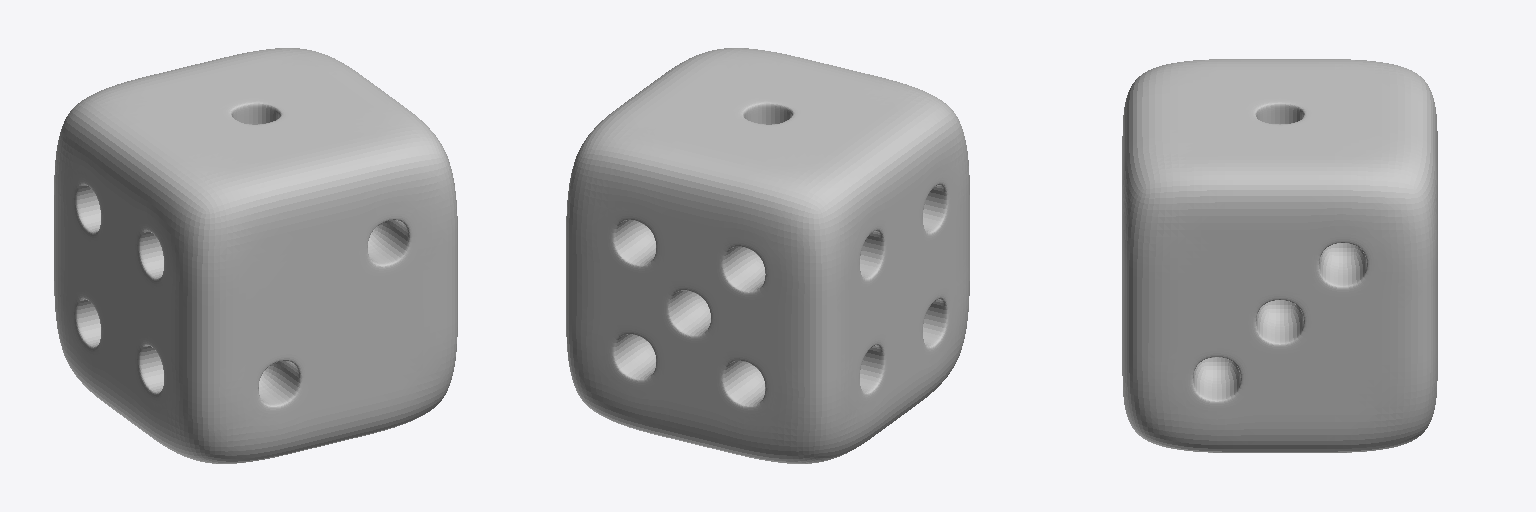
Rendered from Large_dice.obj.
The picture shows the model from 3 angles: view 1: azimuth 30°, elevation 25°; view 2: azimuth 150°, elevation 25°; view 3: azimuth 270°, elevation 25°; orthographic projection.
Visible parts, largest first — view 1: Cube; view 2: Cube; view 3: Cube.
Boxes of the visible parts, box(x1,y1,x2,y2) form: Cube: box(54, 48, 457, 463); Cube: box(566, 48, 969, 463); Cube: box(1122, 59, 1437, 452).
Bounding box in the file's own units: 2 × 2 × 2.